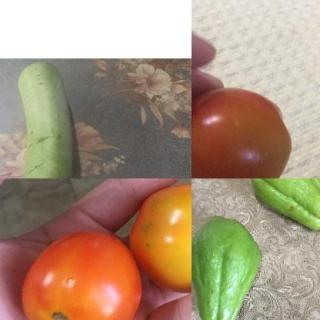Tomat: (20, 183, 192, 318)
